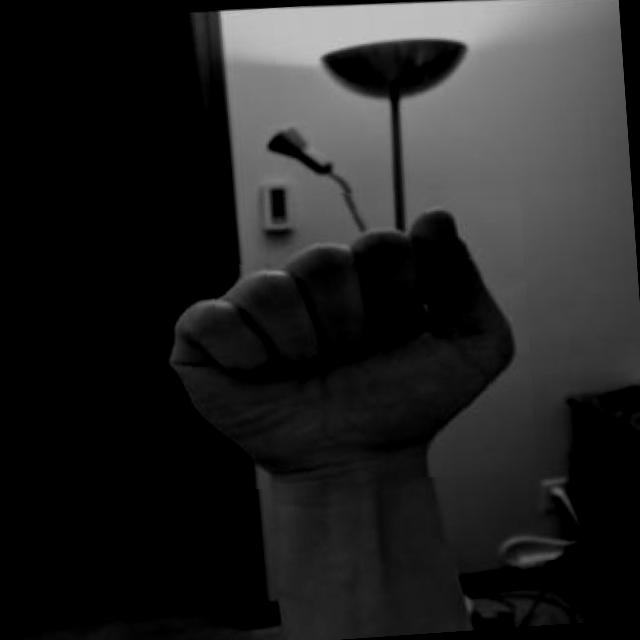A: (140, 172, 539, 496)
